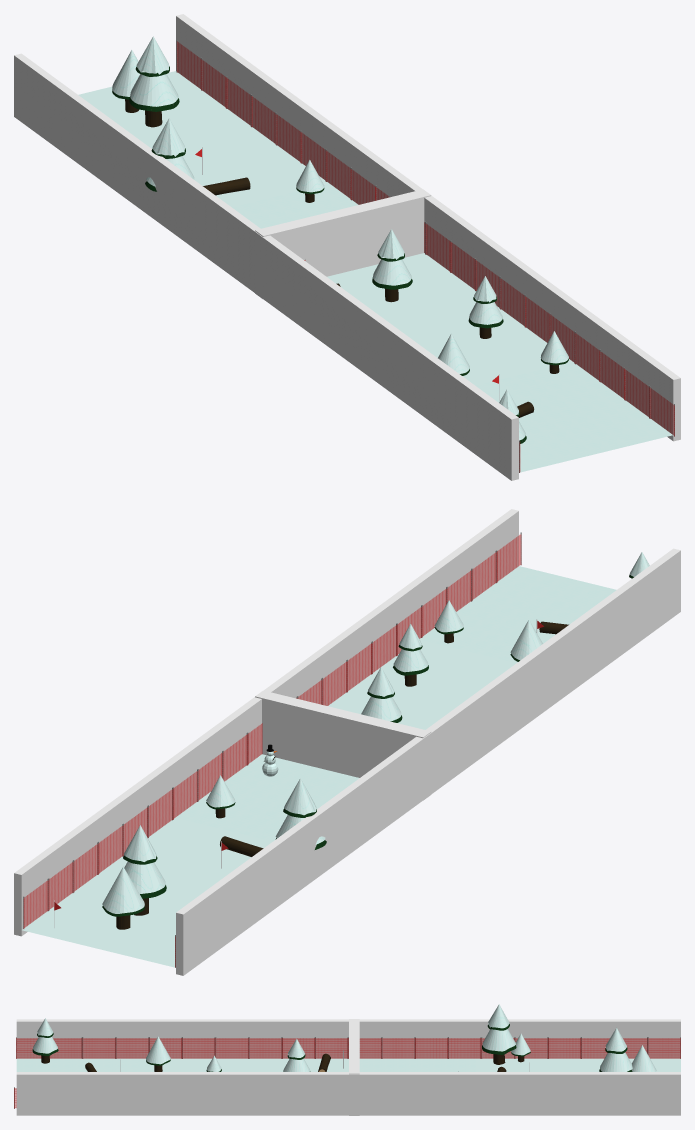
3 views of the same model, one above another, from view 1: azimuth 30°, elevation 25°; view 2: azimuth 150°, elevation 25°; view 3: azimuth 270°, elevation 25° (orthographic). The views are drawn at different scales.
Parts seen in each view (by area): view 1: Floor.018, Cube.013, Cube.040, Cube.038, Cube.039, Fence.017, Floor.017, Generate.009, Pinetree2.154, Pinetree2.149, Pinetree2.147, Pinetree2.152 (+4 smaller); view 2: Floor.017, Cube.040, Cube.013, Cube.039, Floor.018, Fence.017, Cube.038, Generate.009, Pinetree2.154, Pinetree1.296, Pinetree2.149, Pinetree2.147 (+4 smaller); view 3: Cube.038, Cube.039, Cube.013, Fence.018, Cube.040, Floor.018, Floor.017, Pinetree2.152, Pinetree2.154, Pinetree2.137, Generate.009, Pinetree2.149 (+3 smaller).
Boxes of the visible parts, box(x1,y1,x2,y2) form: Floor.018: box(327, 253, 672, 472); Cube.013: box(256, 233, 518, 480); Cube.040: box(14, 53, 275, 293); Cube.038: box(430, 200, 680, 441); Cube.039: box(176, 14, 437, 256); Fence.017: box(176, 40, 674, 436); Floor.017: box(78, 71, 358, 228); Generate.009: box(255, 189, 431, 298); Pinetree2.154: box(129, 36, 179, 127); Pinetree2.149: box(372, 229, 412, 302); Pinetree2.147: box(468, 276, 503, 338); Pinetree2.152: box(145, 118, 194, 191); Floor.017: box(22, 754, 359, 967); Cube.040: box(176, 728, 438, 975); Cube.013: box(426, 548, 680, 788); Cube.039: box(14, 697, 261, 936); Floor.018: box(328, 566, 616, 729); Fence.017: box(23, 532, 521, 928); Cube.038: box(264, 509, 518, 705); Generate.009: box(255, 690, 431, 800); Pinetree2.154: box(123, 825, 166, 915); Pinetree1.296: box(102, 866, 144, 929); Pinetree2.149: box(361, 667, 402, 722); Pinetree2.147: box(393, 623, 428, 686); Cube.038: box(16, 1072, 356, 1115); Cube.039: box(340, 1072, 680, 1115); Cube.013: box(16, 1019, 348, 1058); Fence.018: box(16, 1037, 680, 1058); Cube.040: box(340, 1019, 680, 1058); Floor.018: box(16, 1058, 348, 1071); Floor.017: box(359, 1058, 680, 1071); Pinetree2.152: box(482, 1004, 516, 1064); Pinetree2.154: box(599, 1027, 632, 1071); Pinetree2.137: box(32, 1018, 58, 1063); Generate.009: box(349, 1019, 359, 1115); Pinetree2.149: box(283, 1039, 310, 1071).
Bounding box in the file's own units: 22.15 × 11.62 × 111.
24 materials, 24 textured.
